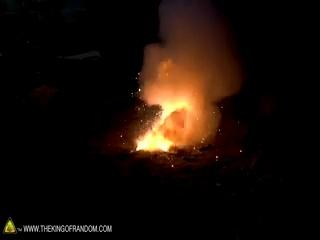Fire: (136, 104, 190, 152)
